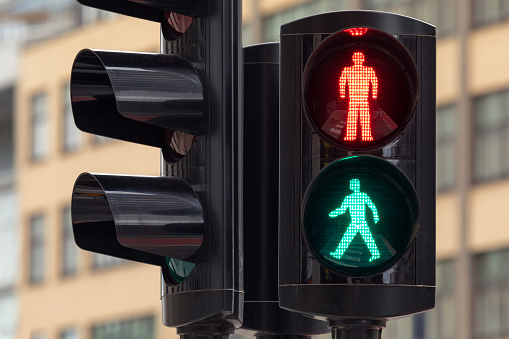traffic light: (72, 1, 242, 339), (257, 11, 437, 318)
